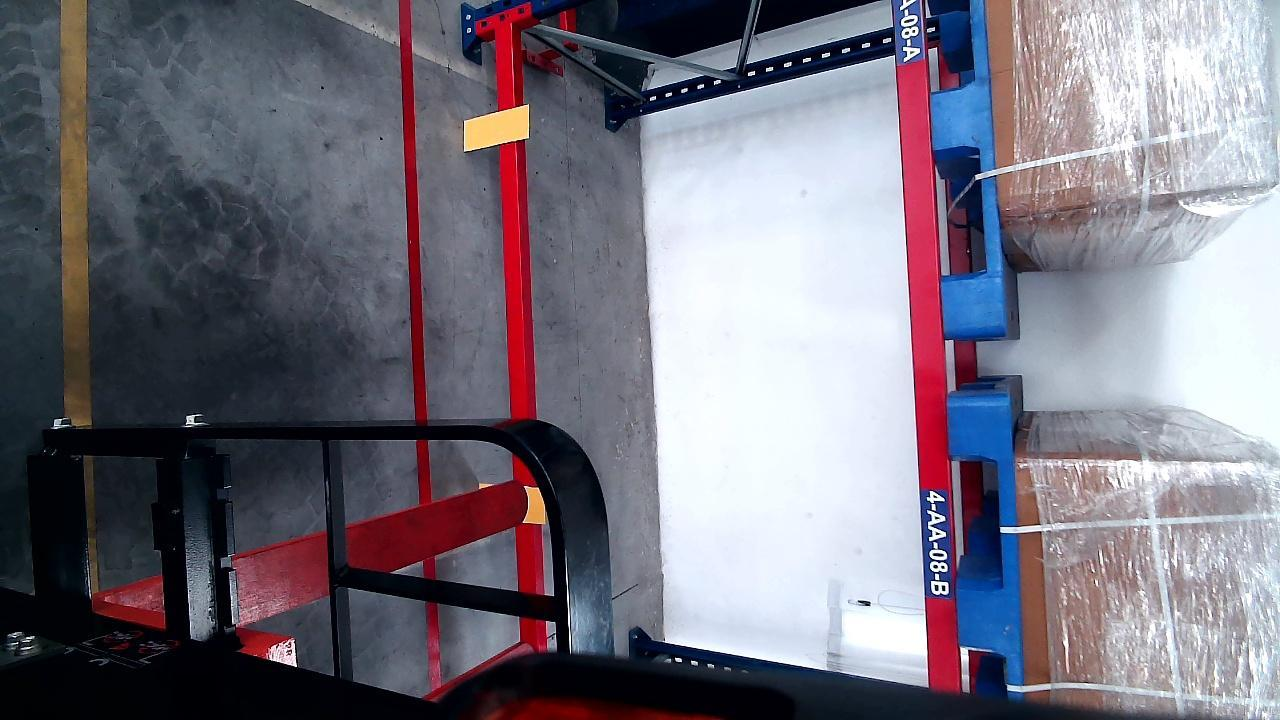red_line: (398, 0, 430, 506)
yellow_line: (59, 0, 93, 421)
